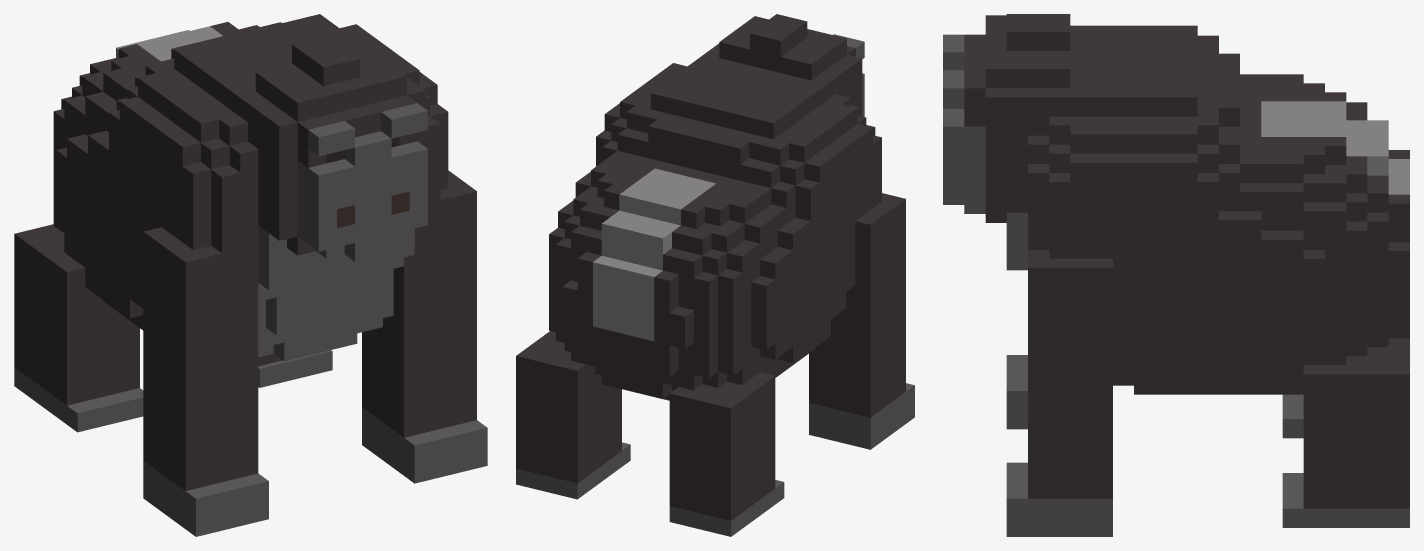
File: gorilla.glb
3 renders of one model, left to right at view 1: azimuth 30°, elevation 25°; view 2: azimuth 150°, elevation 25°; view 3: azimuth 270°, elevation 25°, orthographic. The views are drawn at different scales.
Parts seen in each view (by area): view 1: gorilla__body, gorilla__head, gorilla__arm_r, gorilla__arm_l, gorilla__leg_r, gorilla__leg_l; view 2: gorilla__body, gorilla__arm_r, gorilla__leg_r, gorilla__leg_l, gorilla__head; view 3: gorilla__body, gorilla__arm_l, gorilla__head, gorilla__leg_l, gorilla__arm_r, gorilla__leg_r.
Boxes of the visible parts, x1=… form: gorilla__body: x1=53, y1=14, x2=448, y2=366; gorilla__head: x1=237, y1=35, x2=427, y2=261; gorilla__arm_r: x1=143, y1=227, x2=268, y2=536; gorilla__arm_l: x1=362, y1=170, x2=487, y2=483; gorilla__leg_r: x1=14, y1=224, x2=143, y2=432; gorilla__leg_l: x1=258, y1=350, x2=332, y2=387; gorilla__body: x1=549, y1=54, x2=881, y2=399; gorilla__arm_r: x1=809, y1=193, x2=914, y2=449; gorilla__leg_r: x1=669, y1=372, x2=784, y2=536; gorilla__leg_l: x1=516, y1=331, x2=630, y2=499; gorilla__head: x1=704, y1=14, x2=864, y2=116; gorilla__body: x1=1006, y1=25, x2=1409, y2=394; gorilla__arm_l: x1=1006, y1=250, x2=1112, y2=536; gorilla__head: x1=943, y1=14, x2=1091, y2=222; gorilla__leg_l: x1=1282, y1=338, x2=1409, y2=527; gorilla__arm_r: x1=1006, y1=355, x2=1027, y2=429; gorilla__leg_r: x1=1282, y1=319, x2=1409, y2=438.
Bounding box in the file's own units: 1.6 × 2.3 × 2.2.
Materials: 1 (1 with a texture image).
